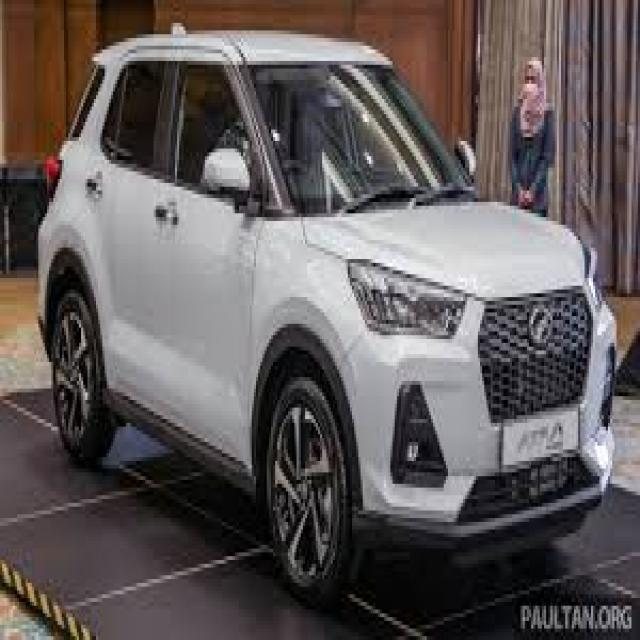PeroduaAtiva: (34, 19, 619, 610)
